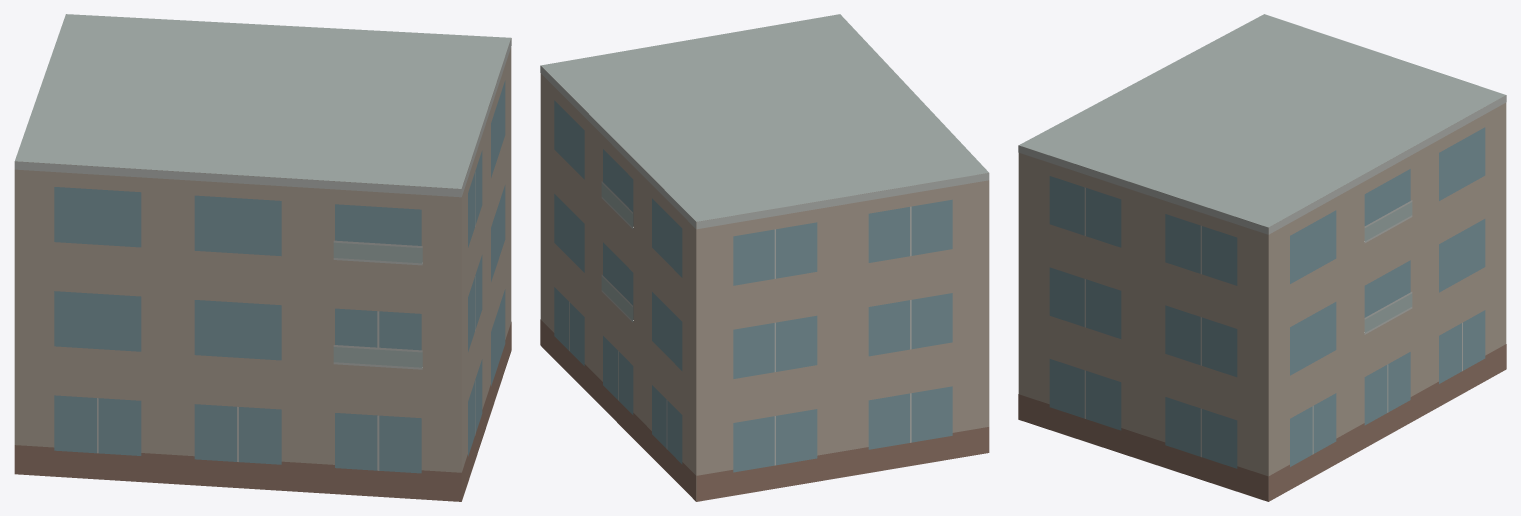
File: survey-upis-32890914.glb
3 views of the same model, side by side, from view 1: azimuth 30°, elevation 25°; view 2: azimuth 150°, elevation 25°; view 3: azimuth 270°, elevation 25° (orthographic). The views are drawn at different scales.
Parts seen in each view (by area): view 1: survey-upis-32890914.tmp; view 2: survey-upis-32890914.tmp; view 3: survey-upis-32890914.tmp.
Boxes of the visible parts, <box> form: survey-upis-32890914.tmp: <box>14,14,511,501</box>; survey-upis-32890914.tmp: <box>540,14,989,501</box>; survey-upis-32890914.tmp: <box>1018,14,1506,501</box>.
Size of the model in its own units: 15.28 by 9.15 by 14.75.
